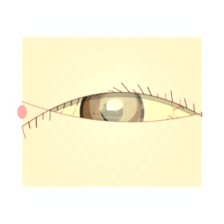corneal_ulcer: (88, 81, 149, 130)
